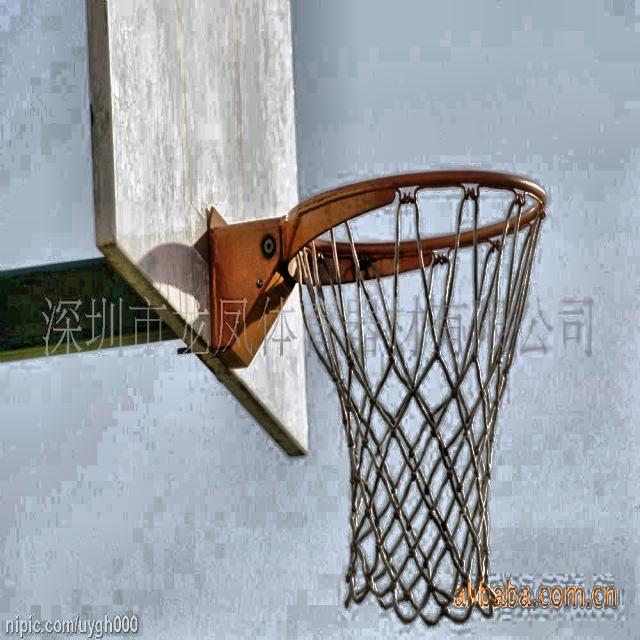rim: (286, 170, 546, 626)
